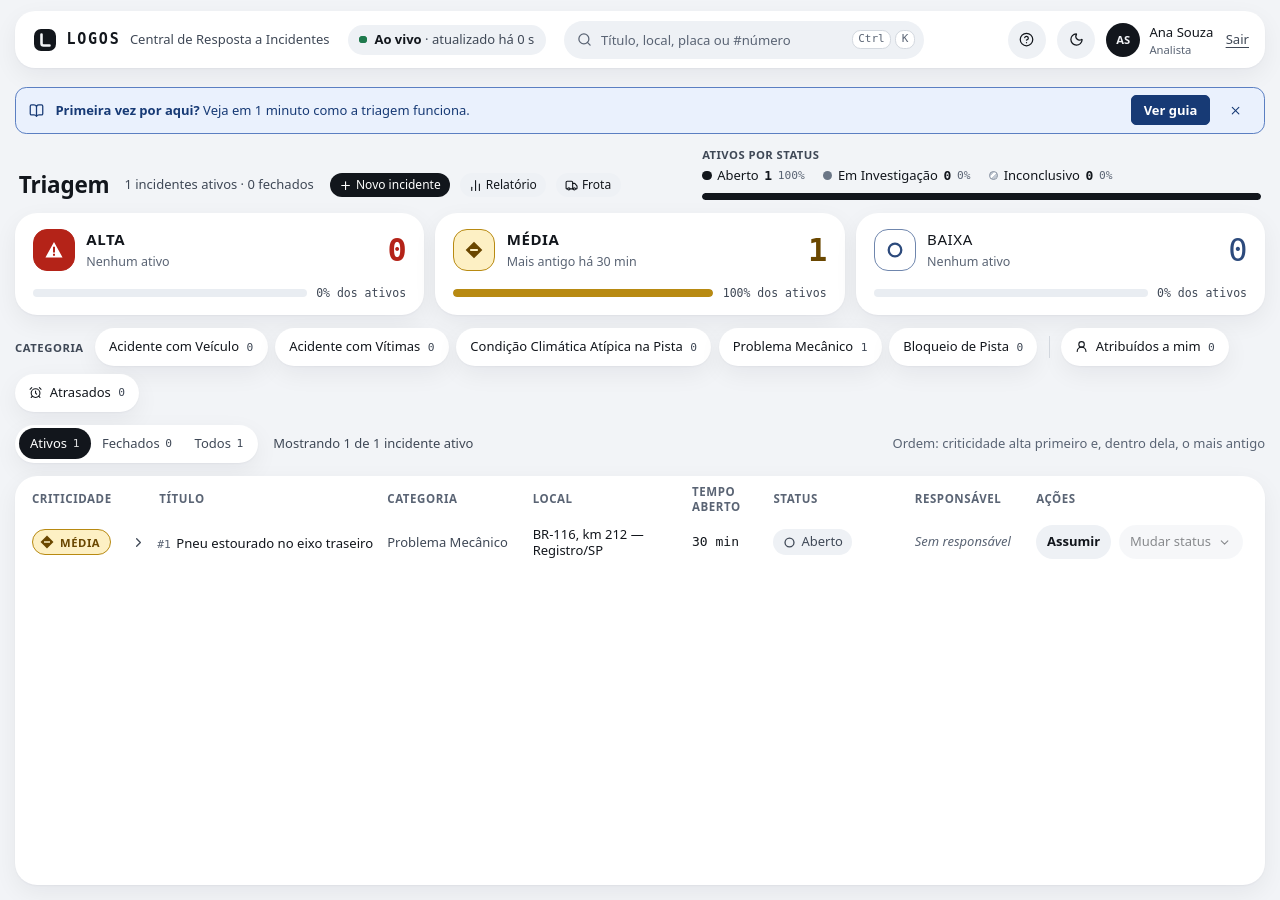
Scenario: TelaTriagem — criar › com placa da frota e contato em branco, mostra o motorista que a API vai copiar
Step 1. Click the button "Novo incidente" → (390, 185), box [329,172,451,198]
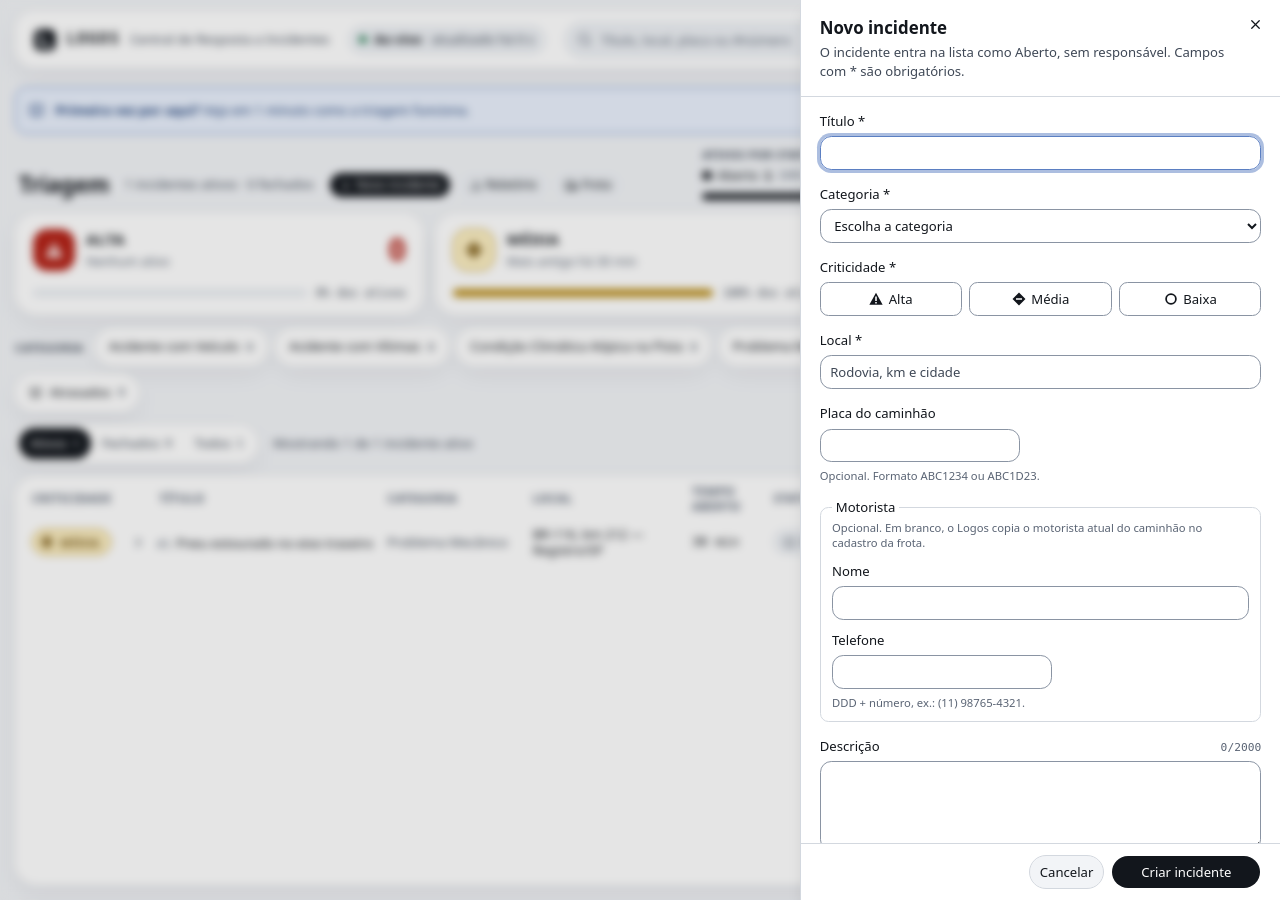
Step 2. Type "rta-4e21" into the field labelled "Placa do caminhão" → (920, 445), box [820,428,1020,462]
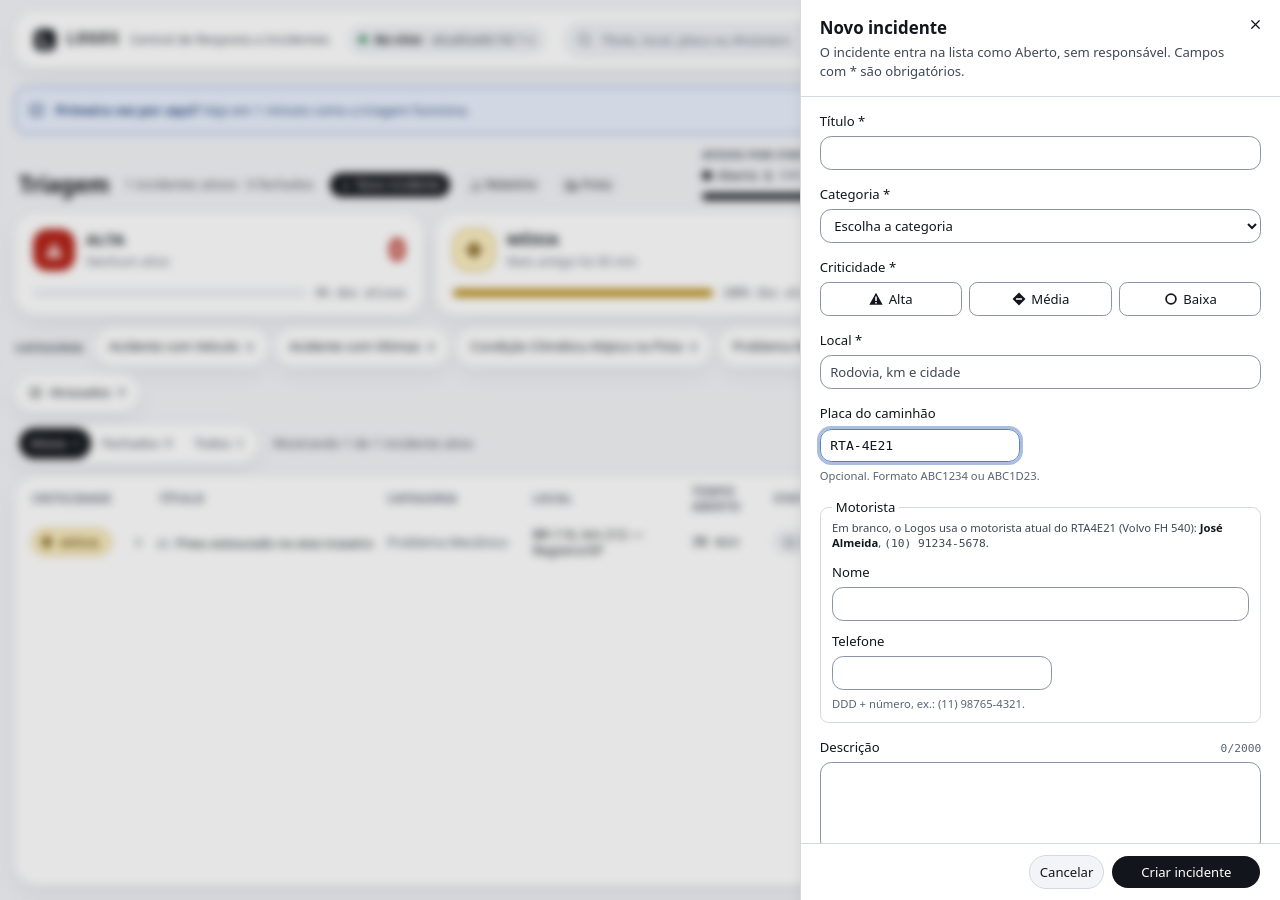
Now the text "usa o motorista atual do RTA4E21 (Volvo FH 540)" shows "José Almeida, (10) 91234-5678.", box [832,520,1249,551]
# Placa fora do cadastro: o analista sabe que precisa informar o contato.
Step 3. Replace the text in the field labelled "Placa do caminhão" with "ABC1D23" → (920, 445), box [820,428,1020,462]
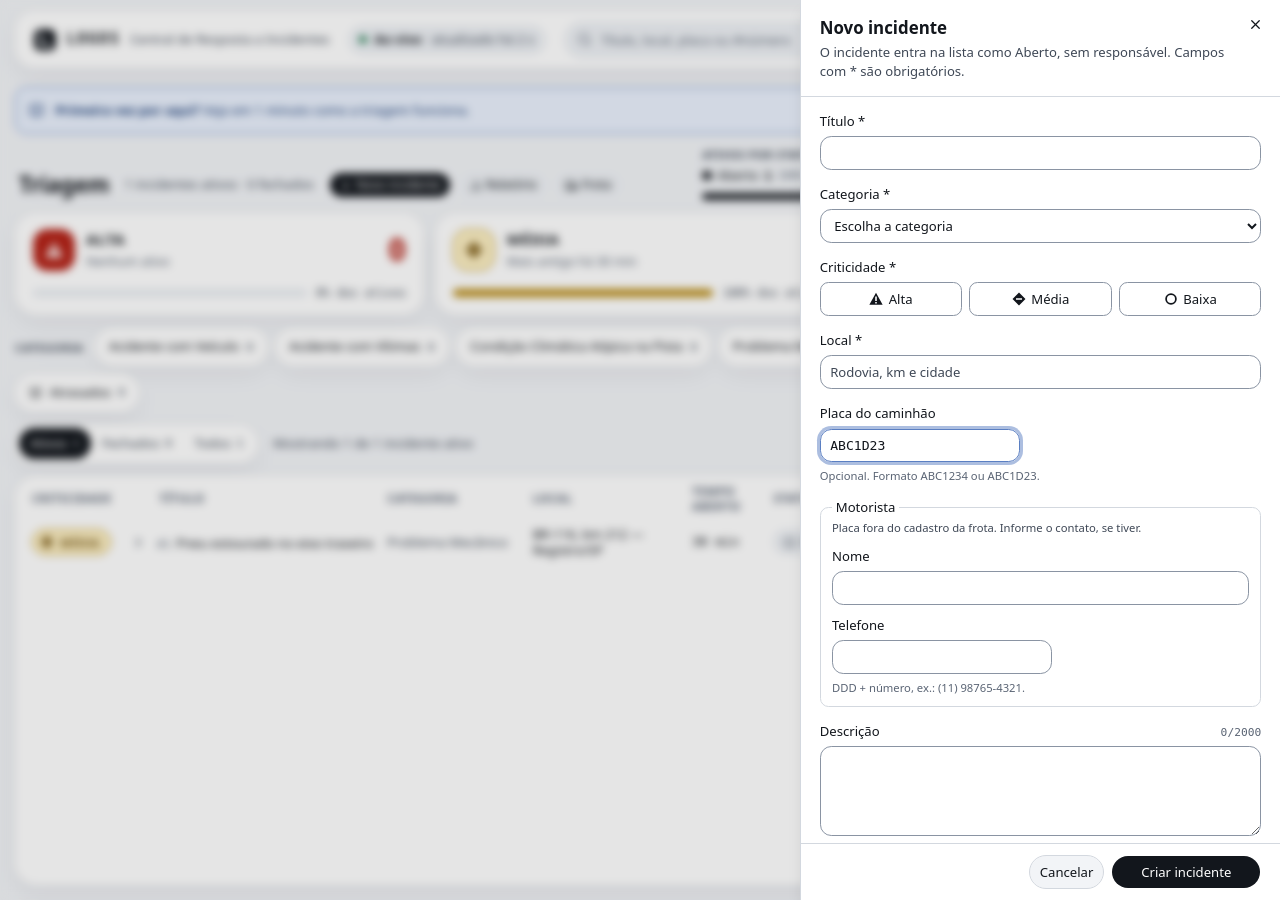
Now the text "Placa fora do cadastro da frota. Informe o contato, se tiver." is shown, box [832,520,1141,535]
